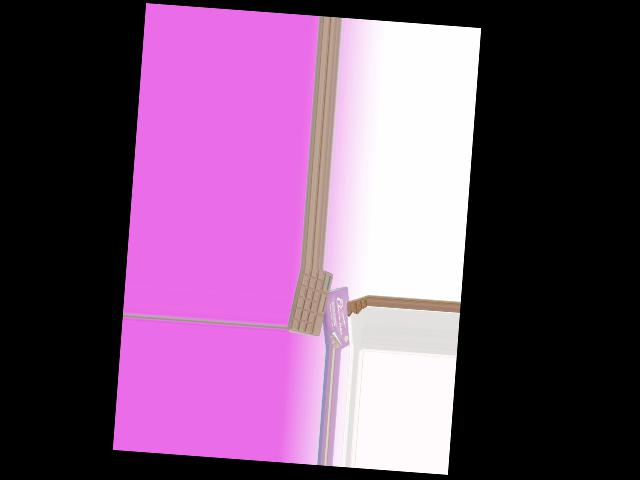chocolate: (286, 269, 334, 336)
